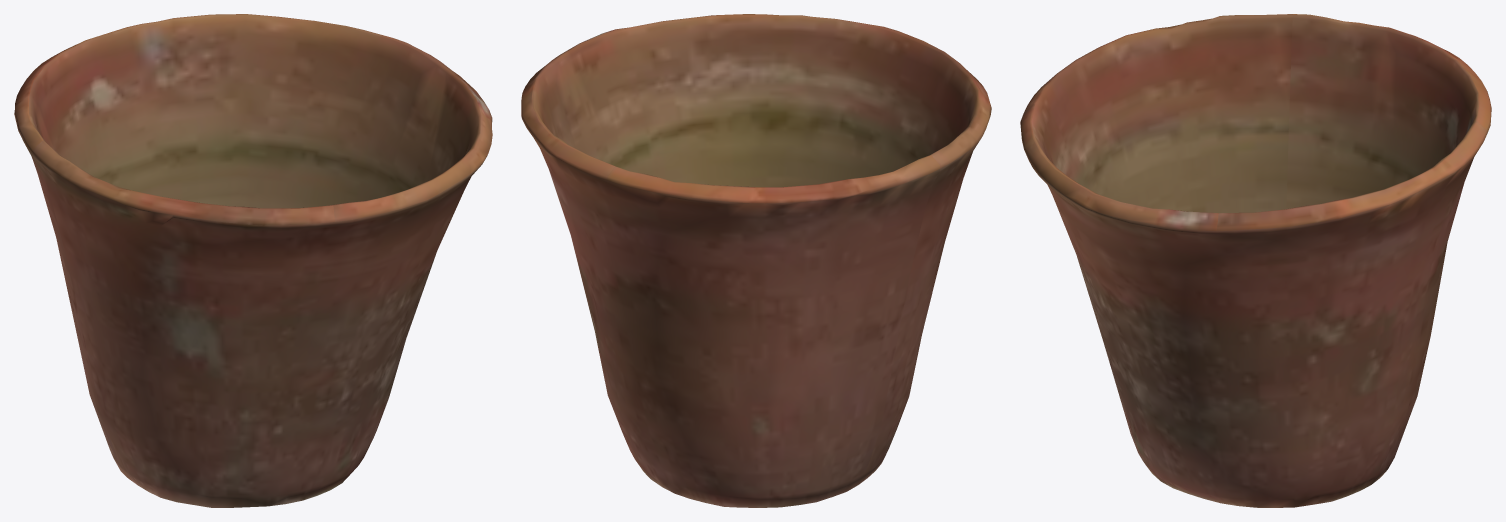
File: planter_pot_clay.glb
The picture shows the model from 3 angles, left to right: view 1: azimuth 30°, elevation 25°; view 2: azimuth 150°, elevation 25°; view 3: azimuth 270°, elevation 25°; orthographic projection.
Parts seen in each view (by area): view 1: planter_pot_clay; view 2: planter_pot_clay; view 3: planter_pot_clay.
Part boxes in pixels (x1,y1,x2,y2): planter_pot_clay: [14, 14, 492, 507]; planter_pot_clay: [521, 14, 991, 507]; planter_pot_clay: [1020, 14, 1491, 507].
Size of the model in its own units: 0.266 by 0.2219 by 0.2635.
1 material, 1 textured.
